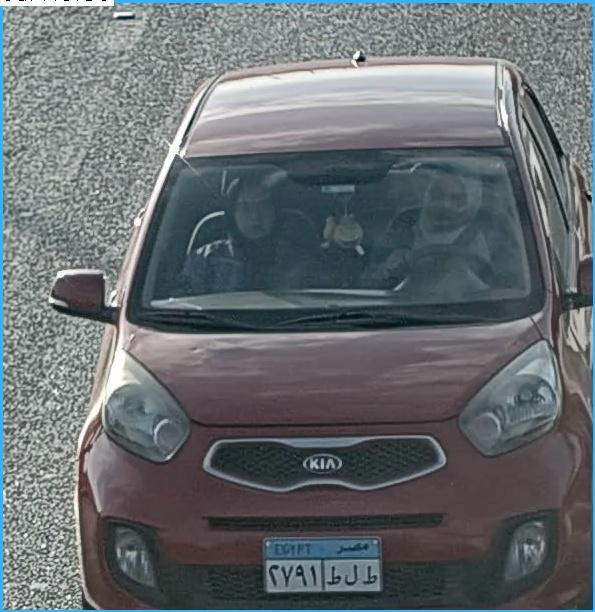windshield: (114, 123, 557, 325)
